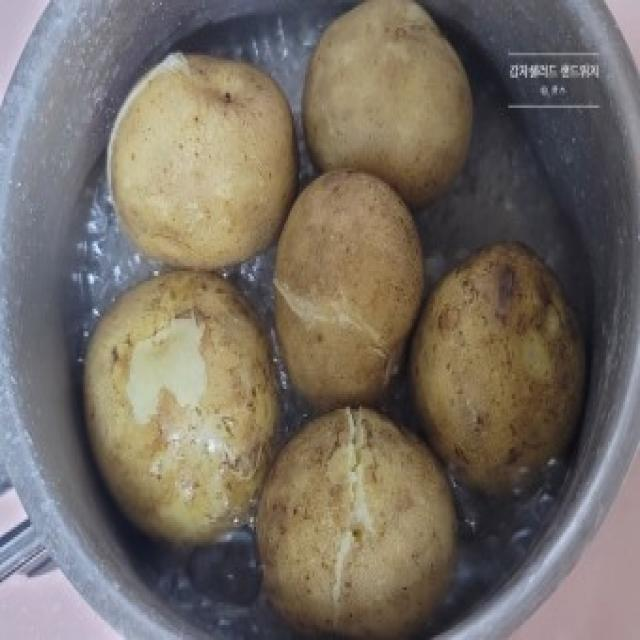potato: (78, 262, 288, 544), (248, 396, 472, 640), (402, 235, 596, 509), (104, 46, 300, 280), (272, 162, 426, 416), (296, 0, 478, 212)
